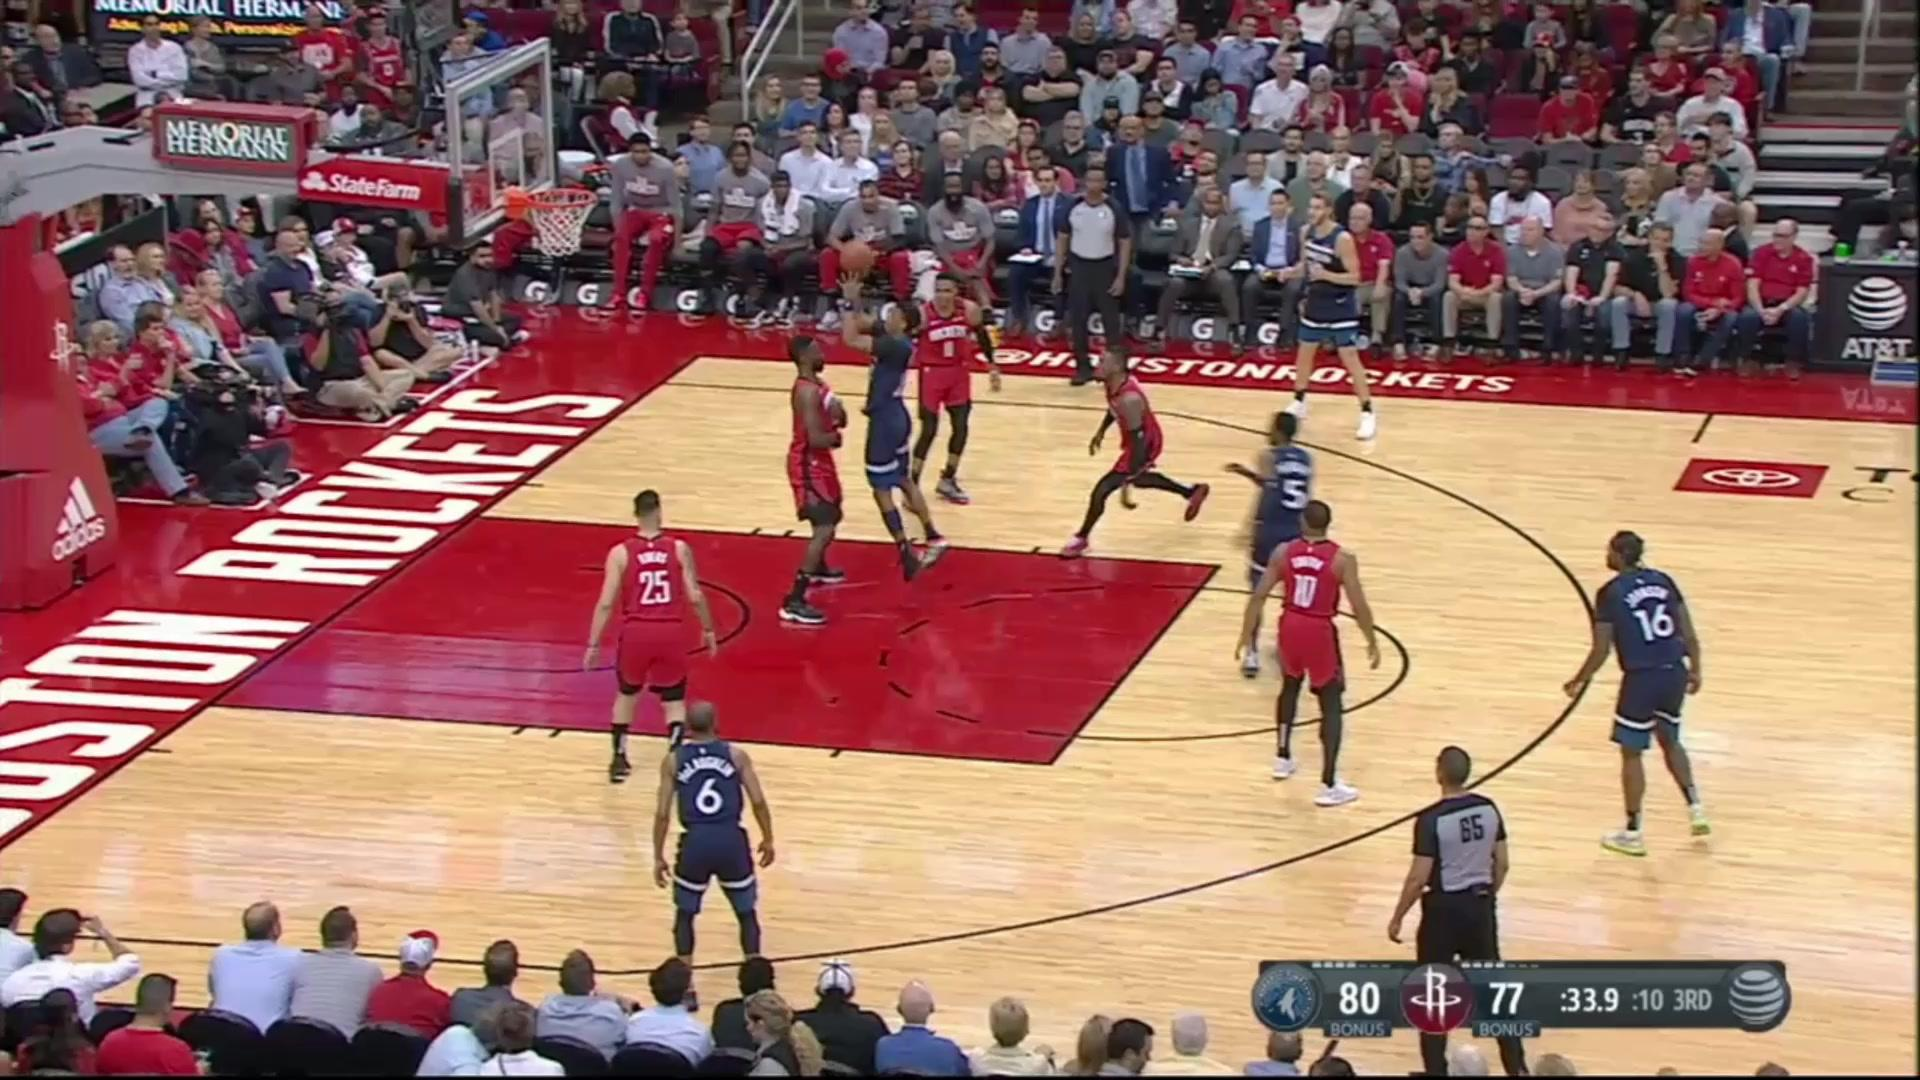no_foul: (781, 293, 923, 600)
